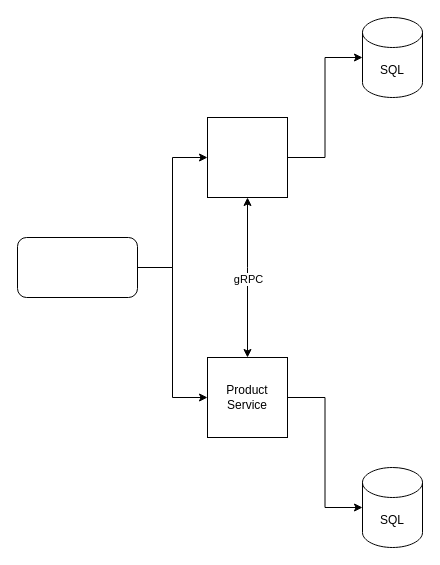
Some shapes in this 440 by 565 pixel diagram are drawn without their labels. Here are the shapes that lost their labels. From the top down, the box of each, then its label:
(206, 116, 288, 198): User Service
(16, 236, 138, 298): Client
